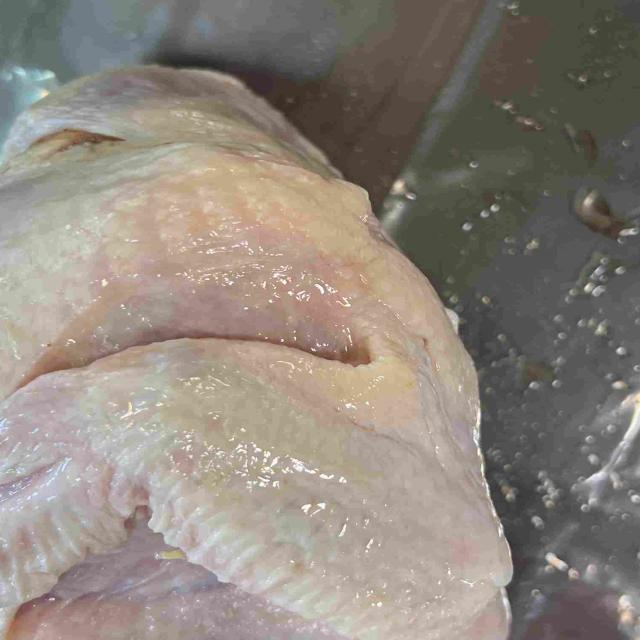wing: (0, 340, 512, 640)
